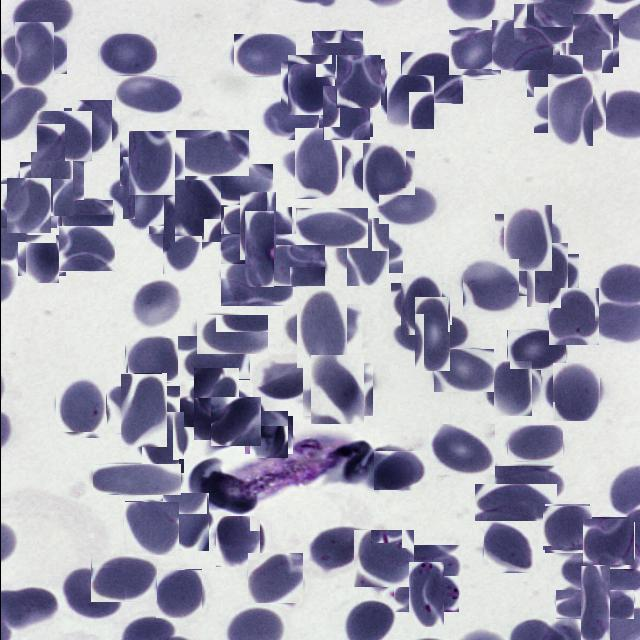red blood cell: (290, 296, 354, 362), (306, 358, 368, 421), (113, 380, 173, 440), (288, 134, 348, 194), (58, 568, 124, 622), (353, 529, 412, 588), (186, 375, 245, 434), (540, 80, 598, 140), (113, 166, 172, 224), (220, 259, 292, 306), (428, 424, 494, 475), (175, 130, 248, 176), (499, 209, 556, 267), (152, 208, 210, 264), (400, 52, 462, 104), (176, 336, 249, 380), (340, 224, 396, 280), (53, 379, 109, 435), (124, 135, 180, 191), (462, 259, 518, 314), (491, 20, 552, 70), (90, 556, 156, 602), (474, 484, 556, 521), (483, 520, 539, 573), (195, 314, 268, 354), (562, 16, 616, 70), (283, 58, 337, 112), (404, 307, 458, 361), (170, 184, 224, 238), (546, 290, 600, 344), (124, 502, 178, 556), (295, 208, 367, 248), (24, 157, 78, 210), (568, 578, 622, 631), (126, 280, 182, 331), (35, 111, 91, 162), (91, 464, 180, 496), (306, 524, 366, 571), (520, 248, 572, 302), (548, 366, 602, 418), (232, 222, 284, 276), (248, 553, 304, 603), (398, 545, 460, 590), (7, 28, 60, 80), (206, 164, 272, 205), (358, 147, 410, 199), (136, 416, 188, 468), (160, 496, 212, 548), (231, 200, 283, 252), (258, 98, 322, 140), (260, 245, 324, 287), (395, 278, 446, 330), (400, 568, 451, 620), (255, 358, 315, 402), (57, 226, 114, 272), (233, 34, 295, 76), (384, 77, 435, 128), (433, 349, 493, 392), (320, 87, 370, 138), (115, 76, 181, 114), (332, 56, 382, 106), (4, 181, 54, 231), (97, 34, 156, 76), (449, 28, 498, 78), (210, 397, 260, 446), (584, 518, 633, 568), (512, 4, 572, 44), (124, 338, 178, 382), (506, 330, 565, 370), (526, 55, 582, 97), (154, 570, 202, 618), (212, 518, 260, 566), (68, 104, 116, 152), (494, 466, 564, 498), (543, 505, 590, 552), (60, 200, 112, 242), (489, 366, 536, 412), (373, 451, 428, 490), (311, 31, 362, 72), (506, 425, 562, 462), (378, 188, 435, 224), (247, 414, 290, 456), (20, 238, 61, 280)
